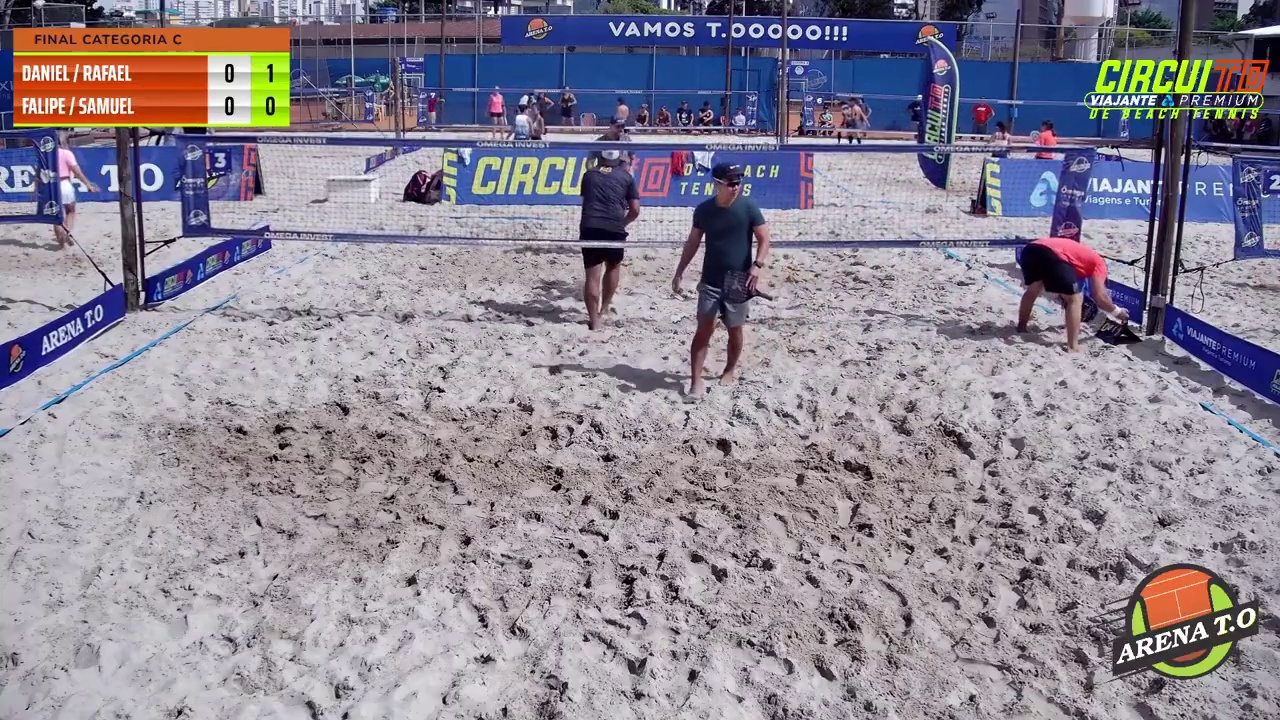court_line: (625, 0, 791, 431), (529, 0, 665, 497)
